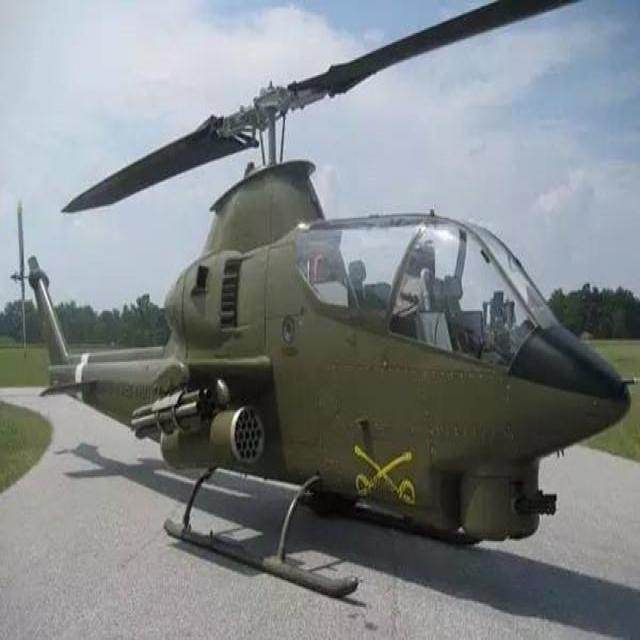MIL_HELO: (0, 18, 635, 601)
